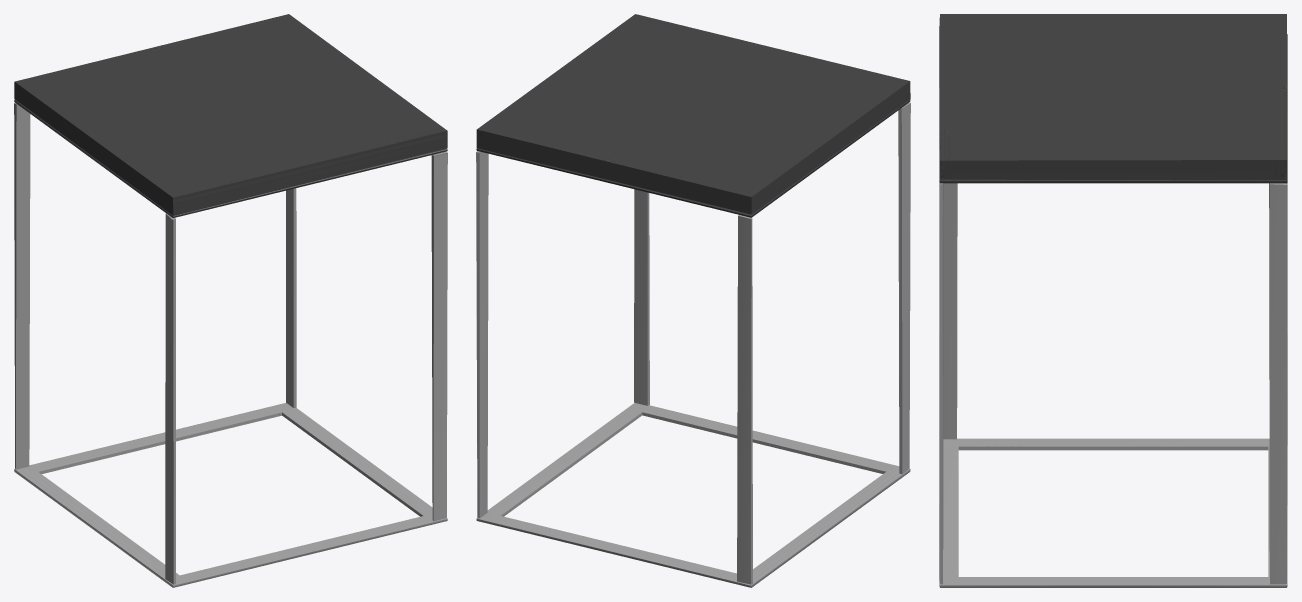
Rendered from Cupboard0008.obj.
The picture shows the model from 3 angles, left to right: view 1: azimuth 30°, elevation 25°; view 2: azimuth 150°, elevation 25°; view 3: azimuth 270°, elevation 25°; orthographic projection. The views are drawn at different scales.
Bounding box in the file's own units: 0.448 × 0.608 × 0.448.
Materials: 1 (1 with a texture image).
